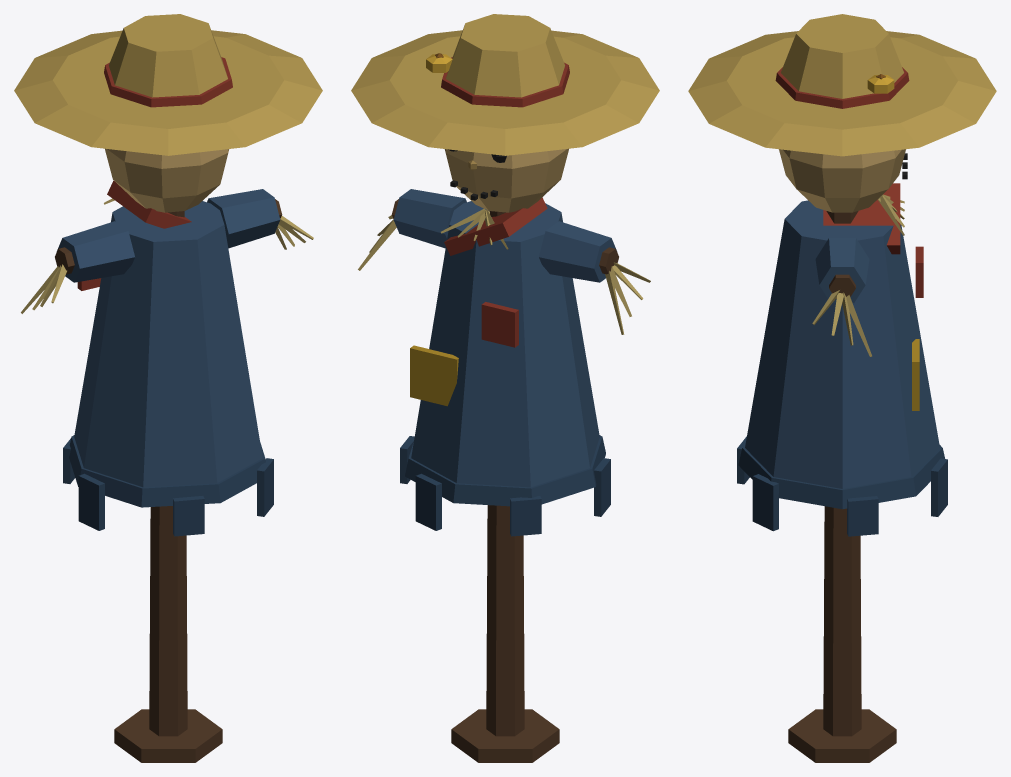
The model's file is prop_scarecrow_player.glb.
The picture shows the model from 3 angles, left to right: view 1: azimuth 30°, elevation 25°; view 2: azimuth 150°, elevation 25°; view 3: azimuth 270°, elevation 25°; orthographic projection.
Visible parts, largest first — view 1: Scarecrow; view 2: Scarecrow; view 3: Scarecrow.
Boxes of the visible parts, x1,y1,x2,y2 form: Scarecrow: (14,14,322,762); Scarecrow: (351,14,659,762); Scarecrow: (688,14,996,762).
Size of the model in its own units: 0.8 by 2.03 by 0.8.
